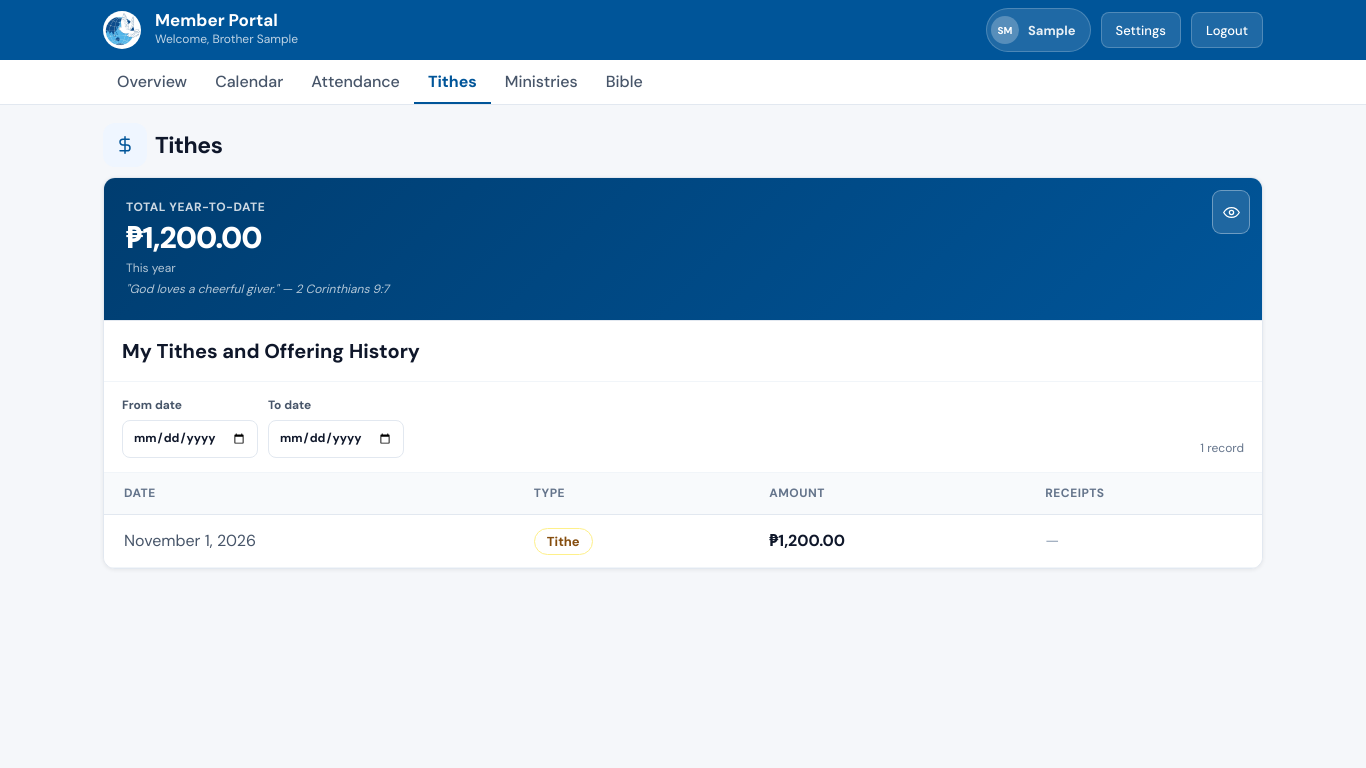
Test: hides every tithe amount behind one control and remembers it
Expected: the text "₱1,200.00" is shown, [126, 218, 262, 257]
Click the button named "Hide amounts": coordinates (1231, 212) [1212, 190, 1250, 234]
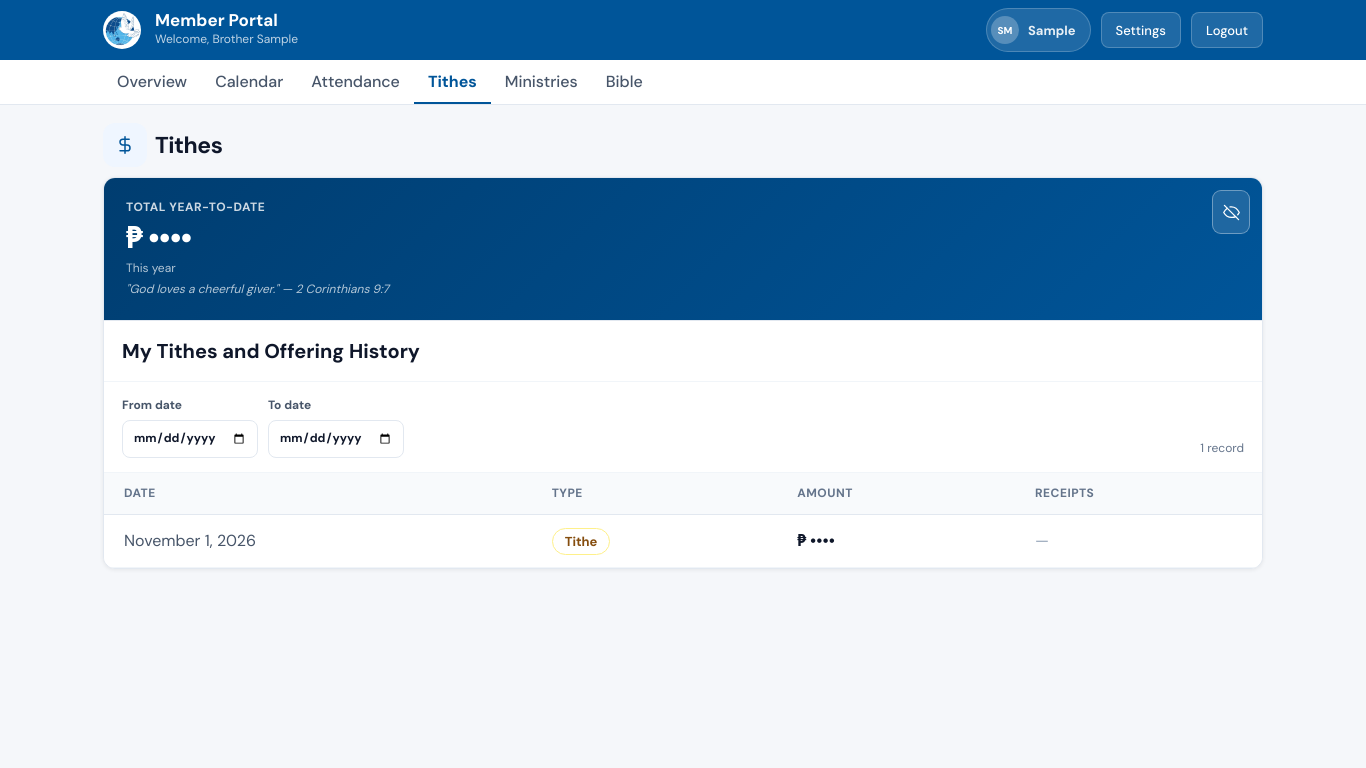
Expected: the text "₱1,200.00" is gone
Expected: the text "₱ ••••" is shown, [126, 218, 191, 257]
